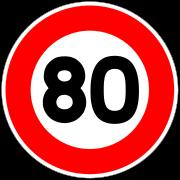Speed Limit -80-: (23, 35, 152, 145)
